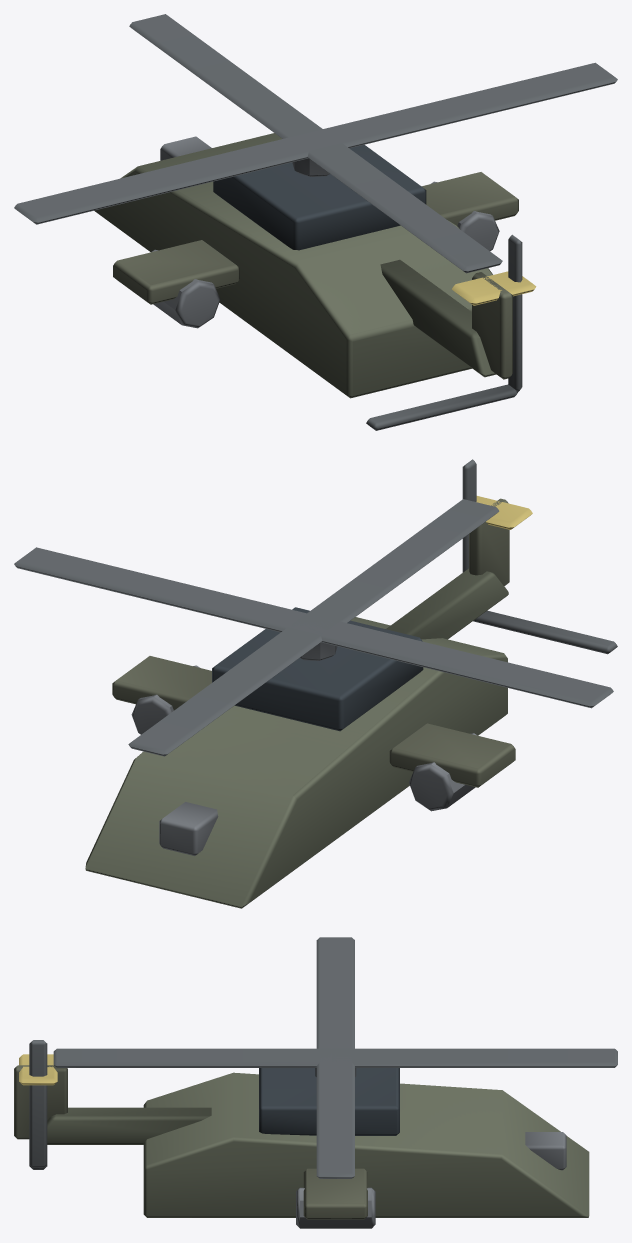
The model's file is gunship.glb.
3 renders of one model, top to bottom at view 1: azimuth 30°, elevation 25°; view 2: azimuth 150°, elevation 25°; view 3: azimuth 270°, elevation 25°, orthographic. The views are drawn at different scales.
Visible parts, largest first — view 1: Body, Rotor, TailRotor; view 2: Body, Rotor, TailRotor; view 3: Body, Rotor, TailRotor.
Boxes of the visible parts, x1=… form: Body: x1=94, y1=133, x2=536, y2=398; Rotor: x1=14, y1=14, x2=617, y2=273; TailRotor: x1=366, y1=234, x2=522, y2=430; Body: x1=85, y1=496, x2=532, y2=908; Rotor: x1=14, y1=499, x2=613, y2=756; TailRotor: x1=462, y1=459, x2=617, y2=654; Body: x1=14, y1=1054, x2=589, y2=1228; Rotor: x1=53, y1=937, x2=617, y2=1178; TailRotor: x1=29, y1=1040, x2=47, y2=1169.
Size of the model in its own units: 4.4 by 1.33 by 4.71.
